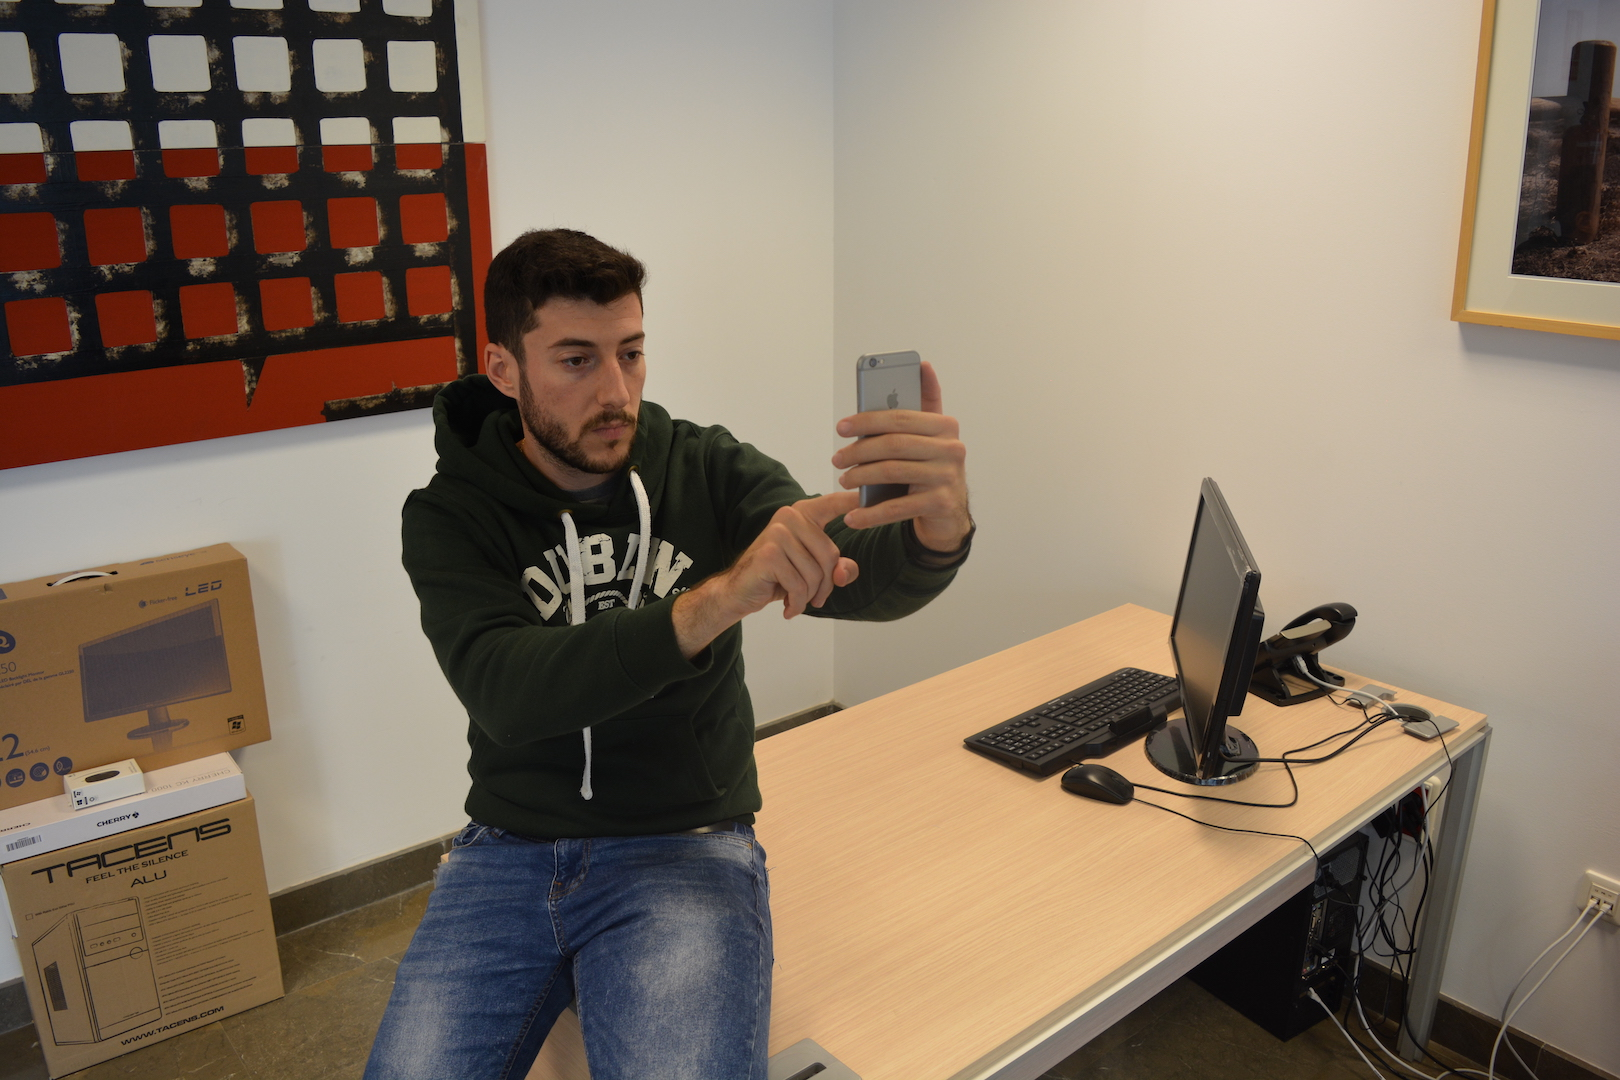smartphone: (855, 350, 923, 506)
